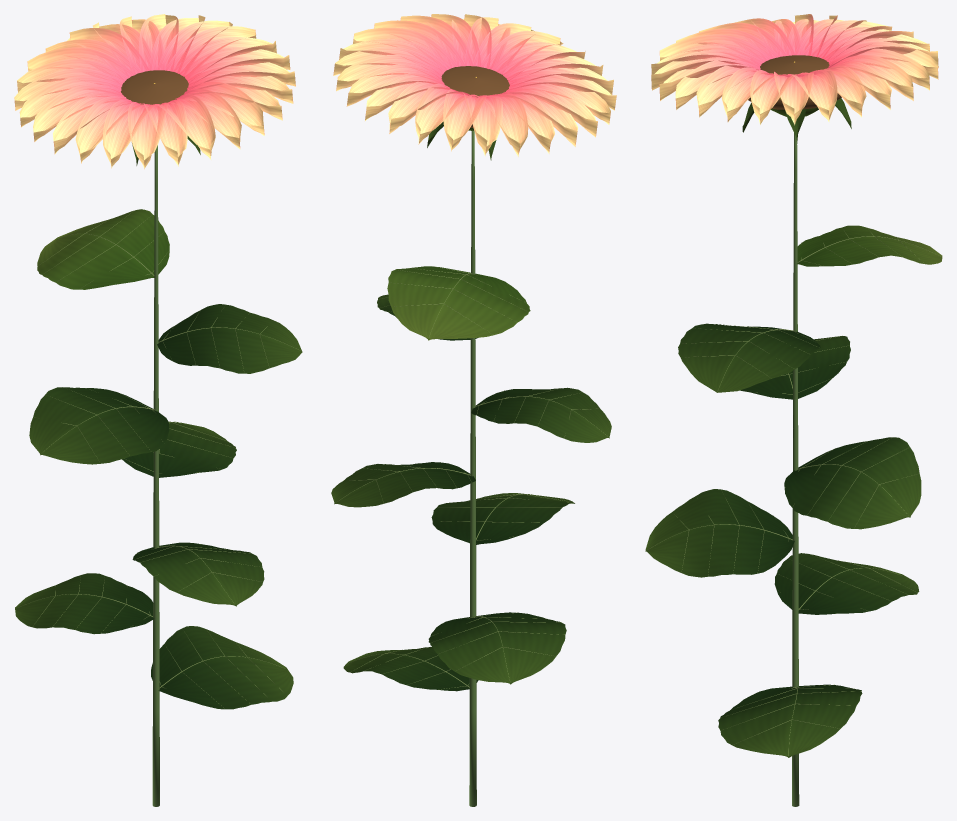
File: sunflower-dream-10.glb
3 renders of one model, left to right at view 1: azimuth 30°, elevation 25°; view 2: azimuth 150°, elevation 25°; view 3: azimuth 270°, elevation 25°, orthographic. The views are drawn at different scales.
Visible parts, largest first — view 1: sunflower_dream_stage_10_leaf_veins.020, sunflower_dream_stage_10_sunflower_petal.020, sunflower_dream_stage_10_young_leaf.020, sunflower_dream_stage_10_stem_fibres.020, sunflower_dream_stage_10_raised_midveins.020, sunflower_dream_stage_10_receptacle.020; view 2: sunflower_dream_stage_10_sunflower_petal.020, sunflower_dream_stage_10_leaf_veins.020, sunflower_dream_stage_10_young_leaf.020, sunflower_dream_stage_10_stem_fibres.020, sunflower_dream_stage_10_raised_midveins.020, sunflower_dream_stage_10_receptacle.020; view 3: sunflower_dream_stage_10_leaf_veins.020, sunflower_dream_stage_10_sunflower_petal.020, sunflower_dream_stage_10_young_leaf.020, sunflower_dream_stage_10_stem_fibres.020, sunflower_dream_stage_10_raised_midveins.020, sunflower_dream_stage_10_receptacle.020.
Part boxes in pixels (x1,y1,x2,y2): sunflower_dream_stage_10_leaf_veins.020: [15, 136, 302, 709]; sunflower_dream_stage_10_sunflower_petal.020: [14, 14, 295, 169]; sunflower_dream_stage_10_young_leaf.020: [37, 209, 169, 289]; sunflower_dream_stage_10_stem_fibres.020: [152, 145, 159, 806]; sunflower_dream_stage_10_raised_midveins.020: [15, 210, 302, 708]; sunflower_dream_stage_10_receptacle.020: [121, 70, 188, 104]; sunflower_dream_stage_10_sunflower_petal.020: [333, 14, 616, 156]; sunflower_dream_stage_10_leaf_veins.020: [331, 121, 611, 691]; sunflower_dream_stage_10_young_leaf.020: [387, 127, 530, 340]; sunflower_dream_stage_10_stem_fibres.020: [469, 131, 476, 806]; sunflower_dream_stage_10_raised_midveins.020: [336, 266, 607, 689]; sunflower_dream_stage_10_receptacle.020: [441, 66, 509, 127]; sunflower_dream_stage_10_leaf_veins.020: [645, 98, 921, 757]; sunflower_dream_stage_10_sunflower_petal.020: [651, 14, 938, 125]; sunflower_dream_stage_10_young_leaf.020: [770, 107, 942, 266]; sunflower_dream_stage_10_stem_fibres.020: [792, 133, 799, 806]; sunflower_dream_stage_10_raised_midveins.020: [648, 227, 940, 755]; sunflower_dream_stage_10_receptacle.020: [748, 55, 841, 109].
Size of the model in its own units: 0.3149 by 0.8875 by 0.3125.
Materials: 7 (3 with a texture image).
